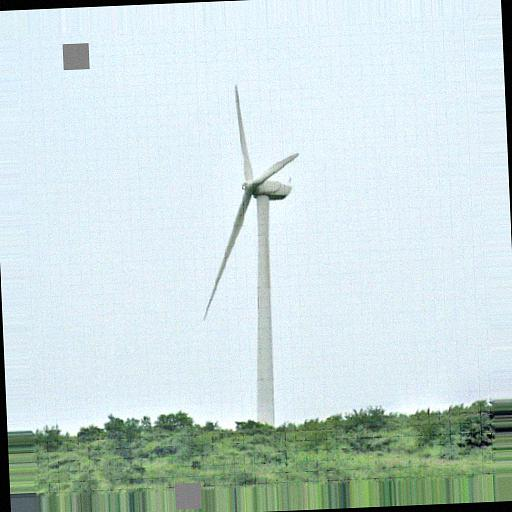wind turbine: (200, 84, 301, 428)
